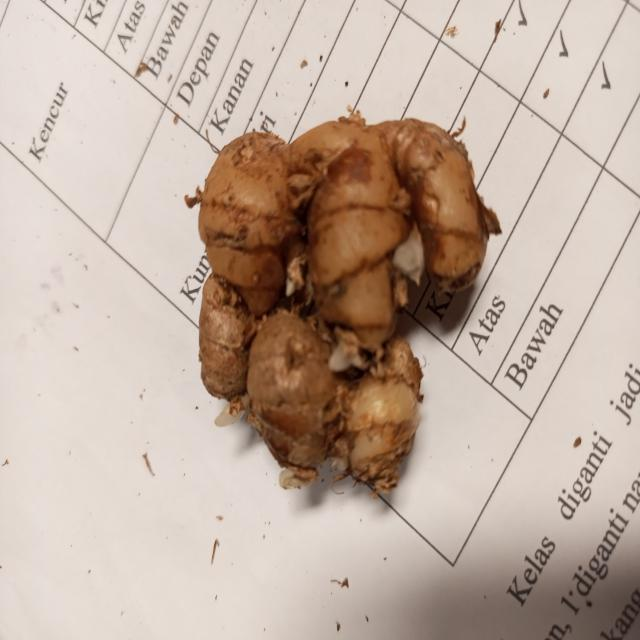ginger: (204, 119, 486, 476)
